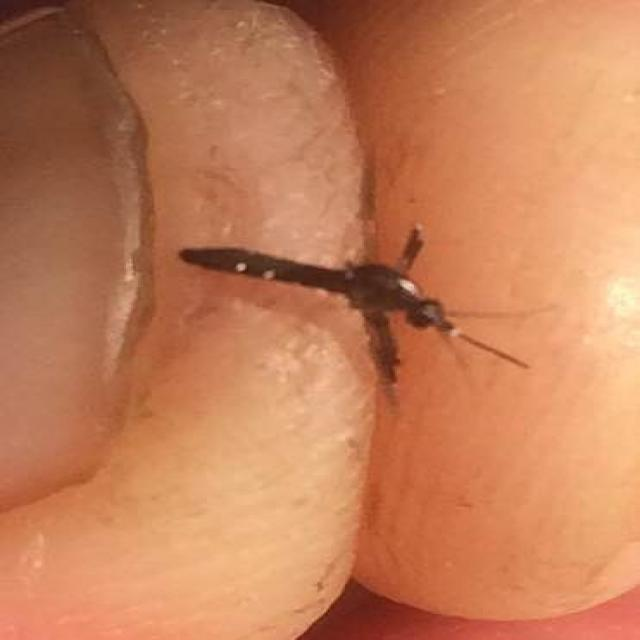albopictus: (191, 203, 547, 396)
